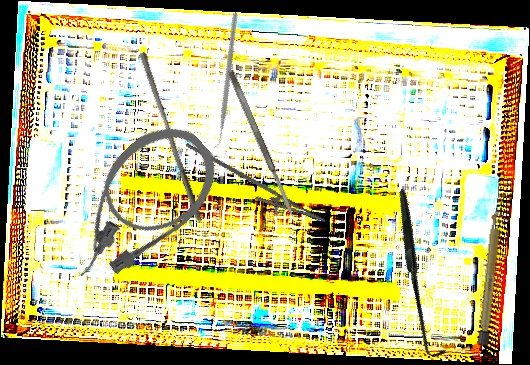Cannula: (38, 108, 235, 300)
Chopper: (161, 12, 285, 150)
Hook Surgical: (335, 188, 507, 362)
Needle Holder: (173, 141, 334, 235)
Pusher: (132, 50, 210, 224)
Scalpel Handle: (477, 208, 504, 347)
Spatula Surgical: (225, 69, 297, 218)
